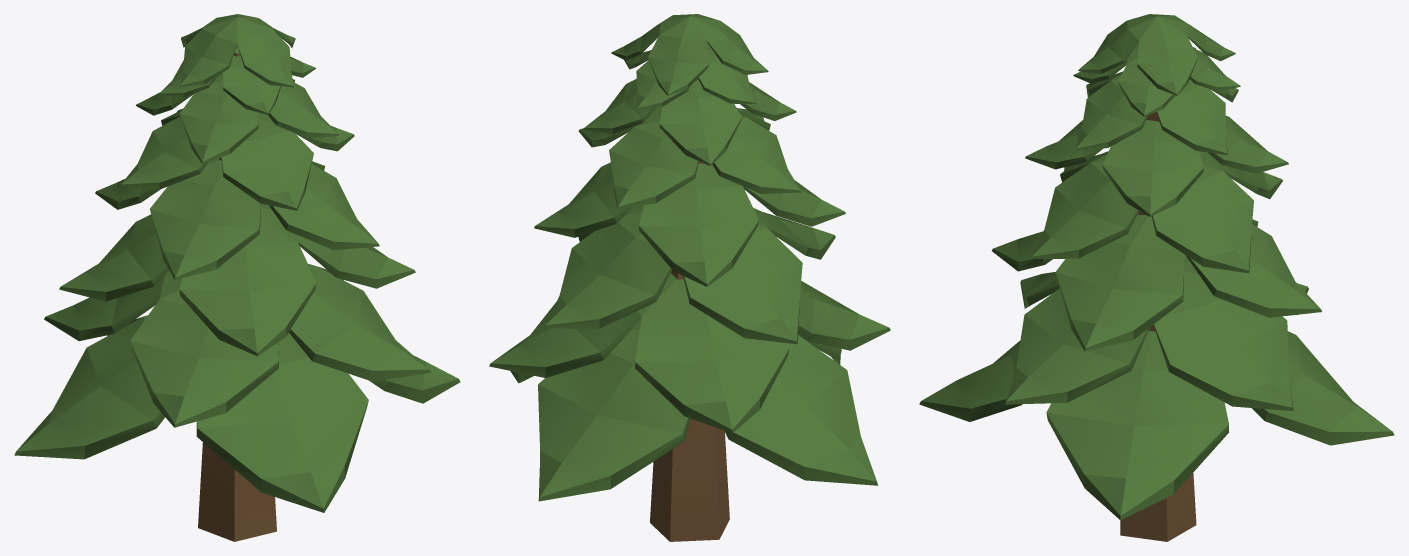
The model's file is wild_pz_pine_01.glb.
The picture shows the model from 3 angles, left to right: view 1: azimuth 30°, elevation 25°; view 2: azimuth 150°, elevation 25°; view 3: azimuth 270°, elevation 25°; orthographic projection.
Parts seen in each view (by area): view 1: pg_pine_01; view 2: pg_pine_01; view 3: pg_pine_01.
Part boxes in pixels (left/top/right/bottom): pg_pine_01: left=14, top=14, right=460, bottom=541; pg_pine_01: left=489, top=14, right=890, bottom=541; pg_pine_01: left=919, top=14, right=1394, bottom=541.
Size of the model in its own units: 3.05 by 3.6 by 3.05.
